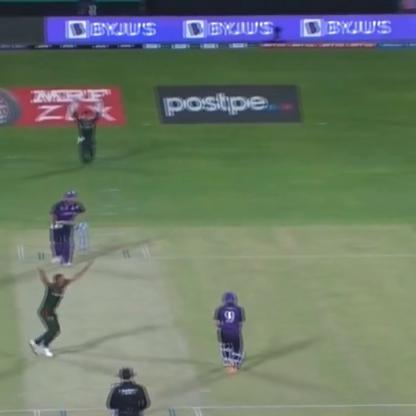pitch: (8, 242, 208, 415)
